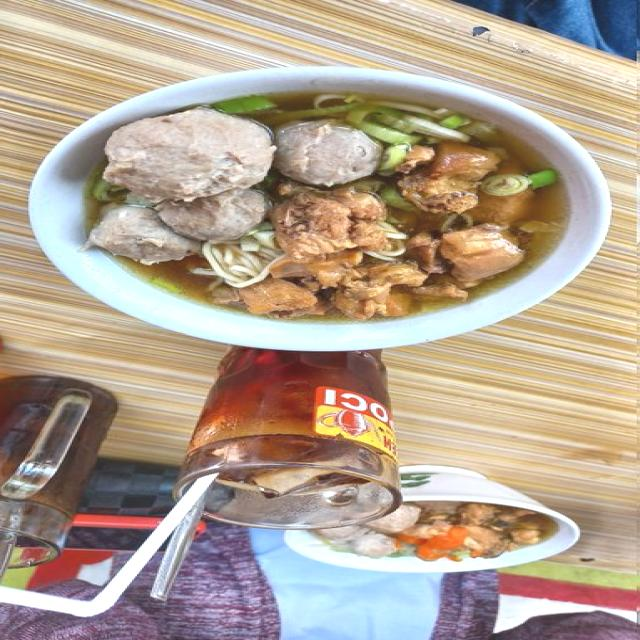bakso: (87, 92, 558, 322)
